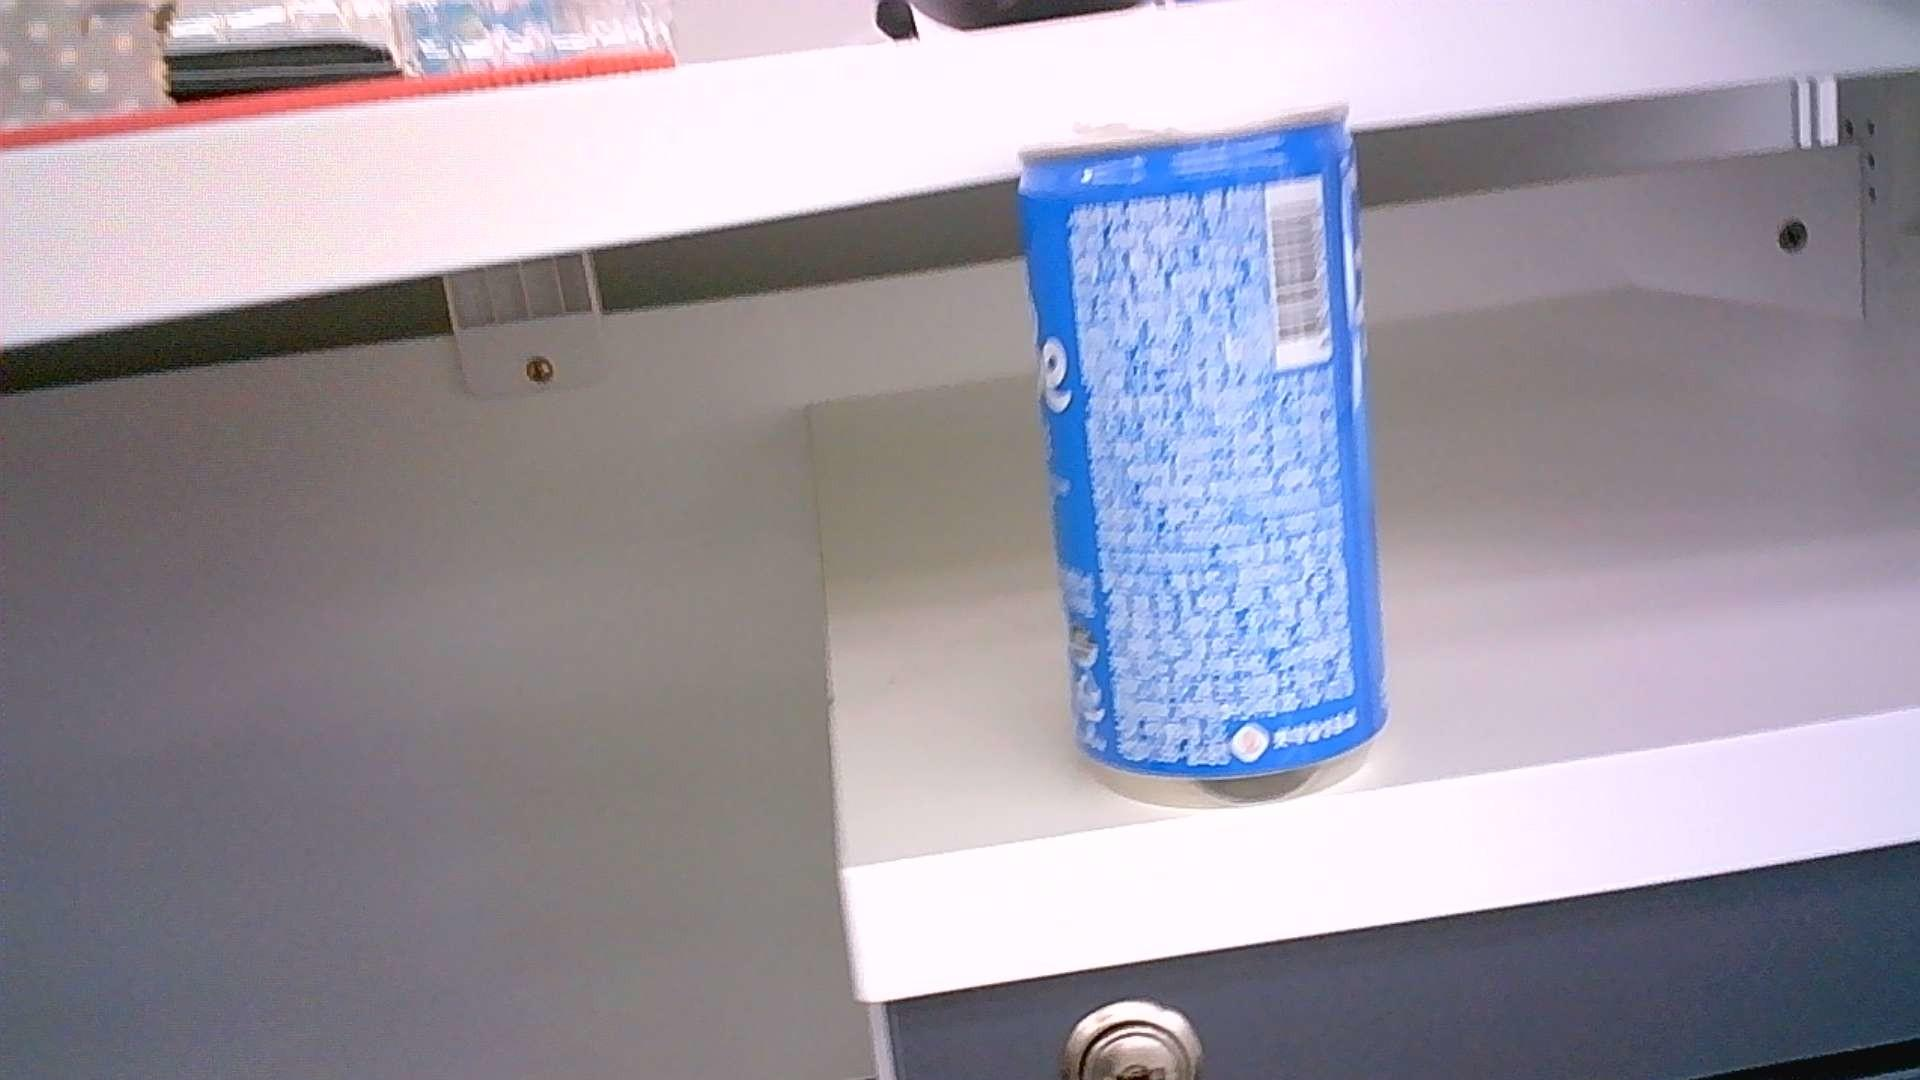letsbe: (1018, 102, 1394, 781)
